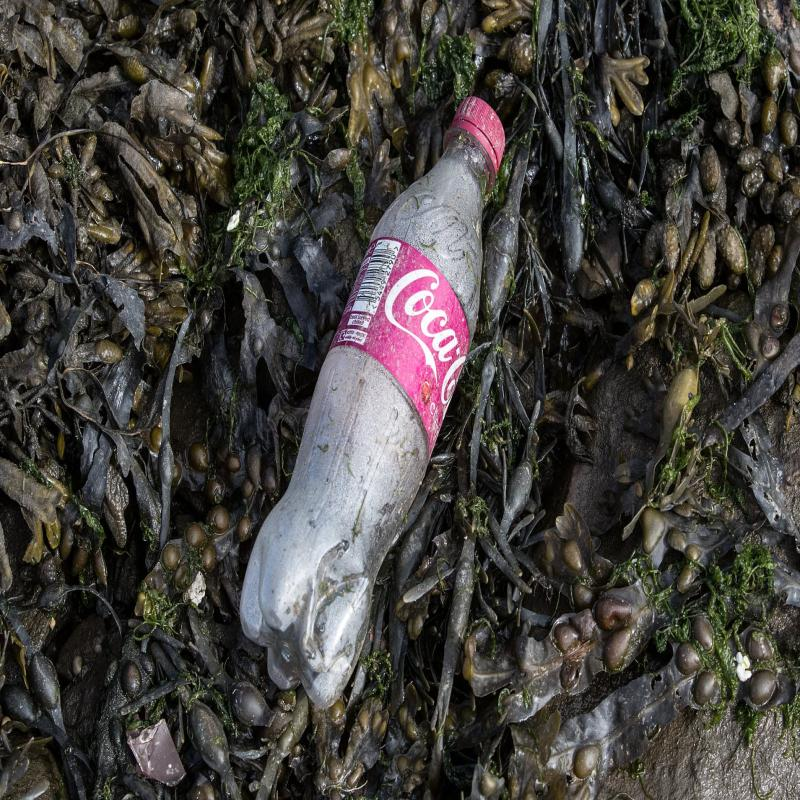botella: (245, 106, 509, 716)
